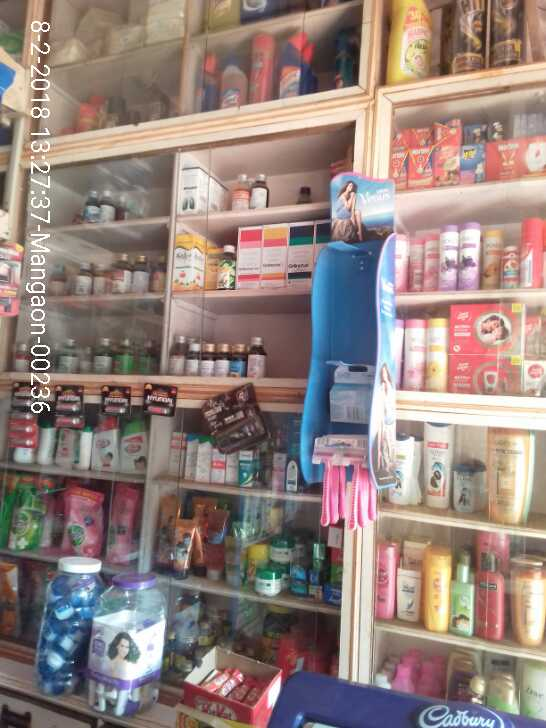beauty: (309, 435, 383, 521)
